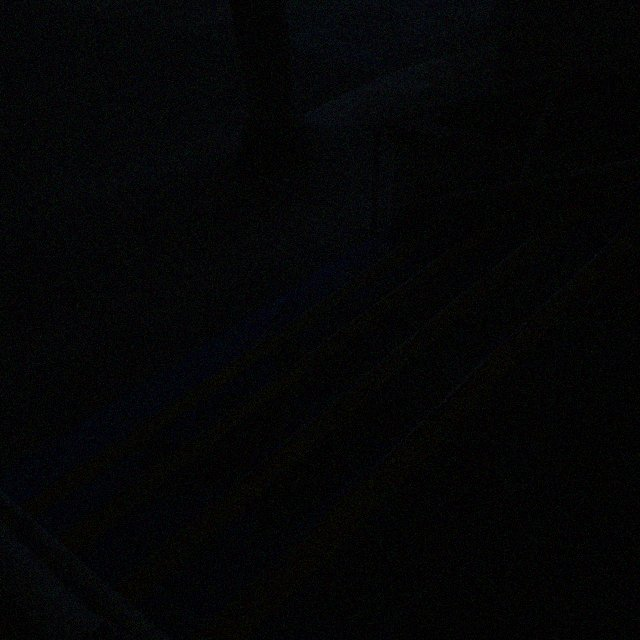stair: (27, 201, 633, 639)
